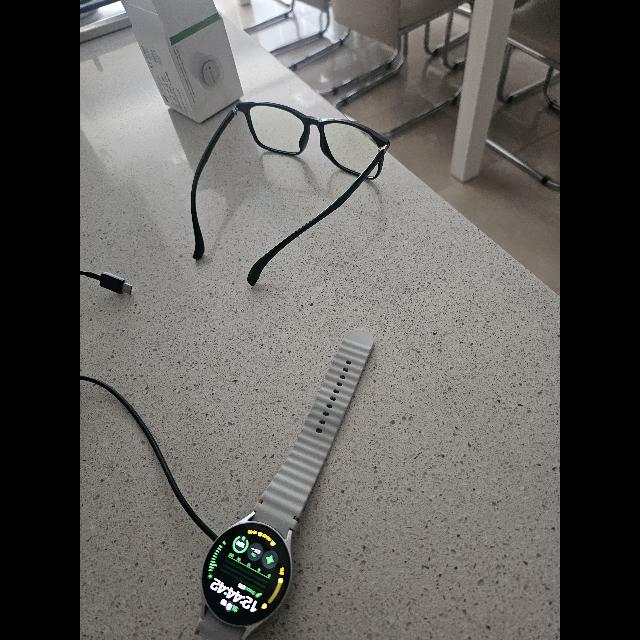glasses: (190, 102, 390, 286)
